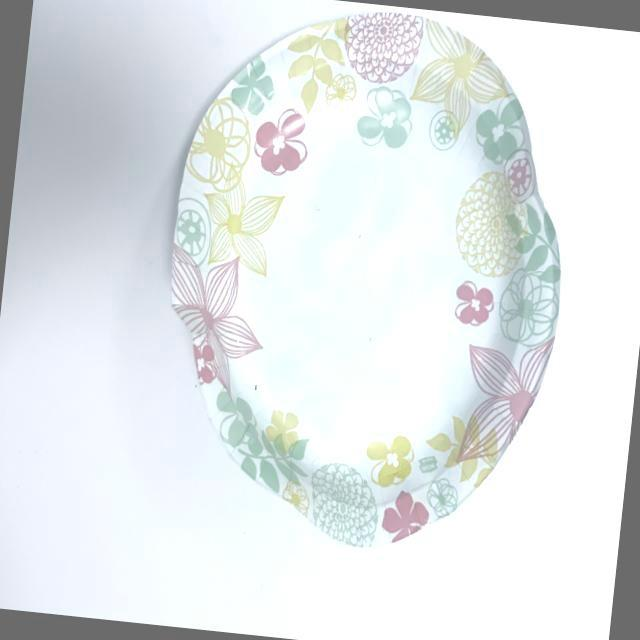paper: (100, 0, 595, 599)
